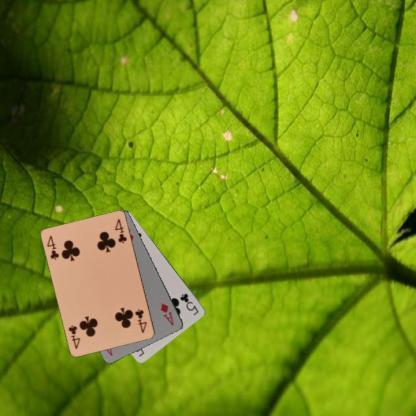4c: (44, 232, 60, 262), (132, 306, 148, 335)
5c: (177, 290, 200, 316)
Ad: (158, 300, 175, 327)
